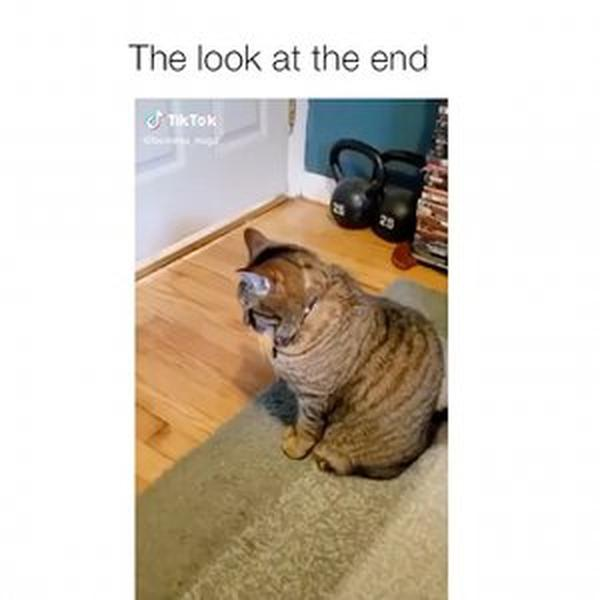michi: (229, 222, 444, 490)
